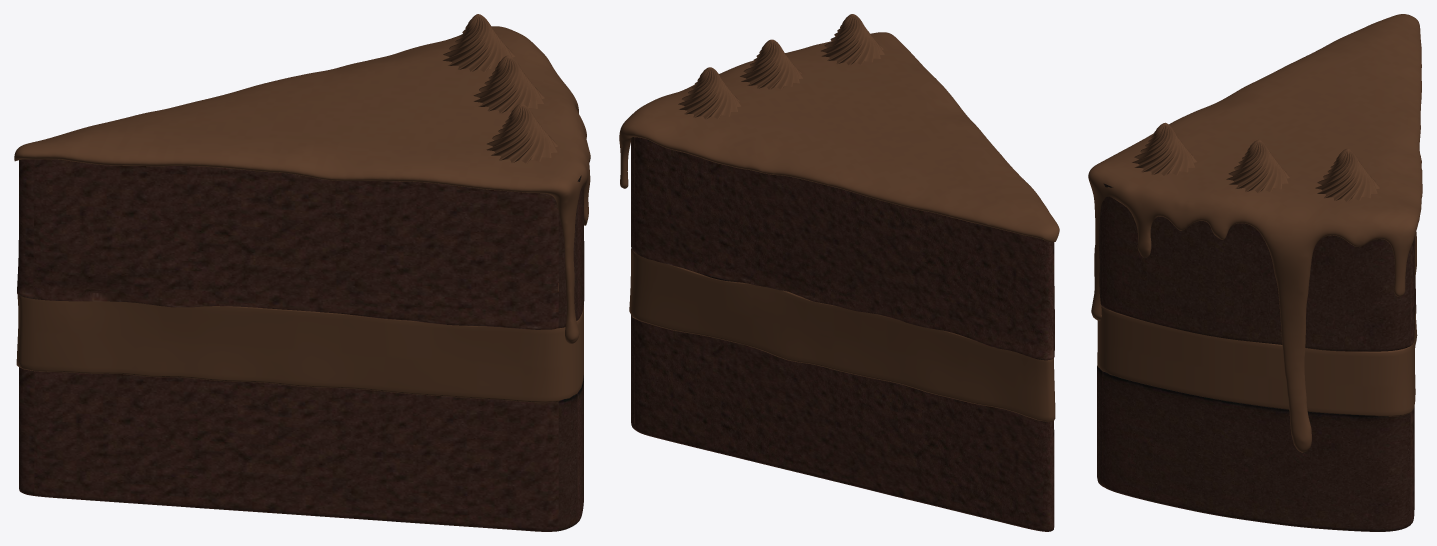
File: sokoladinis_tortas.glb
3 views of the same model, side by side, from view 1: azimuth 30°, elevation 25°; view 2: azimuth 150°, elevation 25°; view 3: azimuth 270°, elevation 25° (orthographic). The views are drawn at different scales.
Parts seen in each view (by area): view 1: Kremas, Sololadas, Pyragas.001, Circle; view 2: Kremas, Sololadas, Pyragas.001, Circle; view 3: Kremas, Sololadas, Pyragas.001, Circle.
Part boxes in pixels (<box>): Kremas: <box>17,159,584,531</box>; Sololadas: <box>14,26,590,343</box>; Pyragas.001: <box>16,283,583,402</box>; Circle: <box>442,14,558,163</box>; Kremas: <box>631,137,1054,531</box>; Sololadas: <box>619,32,1059,242</box>; Pyragas.001: <box>629,248,1055,421</box>; Circle: <box>678,14,884,119</box>; Kremas: <box>1097,183,1415,531</box>; Sololadas: <box>1088,14,1422,452</box>; Pyragas.001: <box>1097,231,1417,416</box>; Circle: <box>1132,122,1379,201</box>.
Size of the model in its own units: 0.1278 by 0.0977 by 0.0829.
4 materials, 4 textured.
